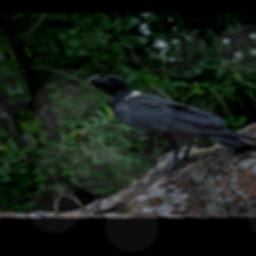Crow: (81, 49, 256, 182)
